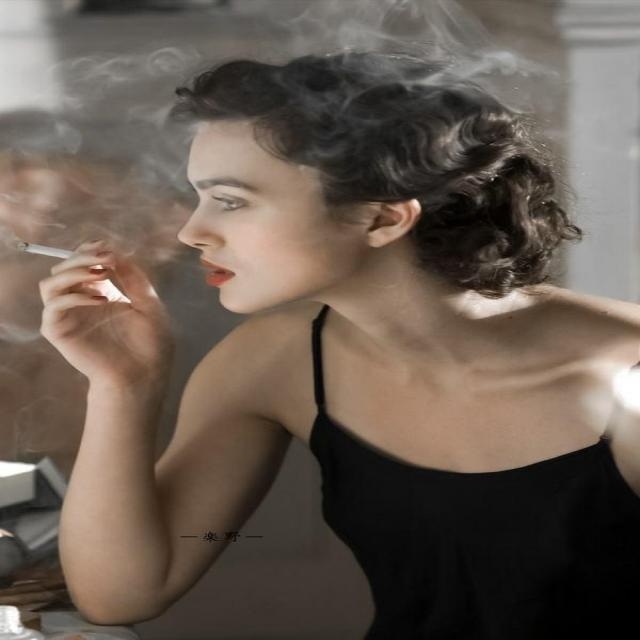smoke: (4, 237, 130, 284)
